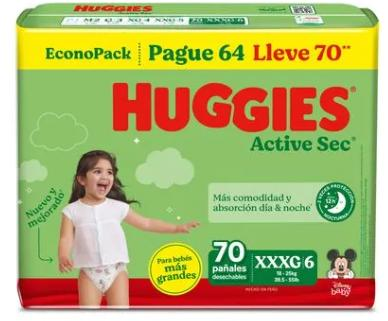brand: (113, 83, 349, 131)
extra_detail: (256, 249, 319, 274)
net_weight: (206, 233, 253, 288)
product_name: (243, 133, 360, 157)
